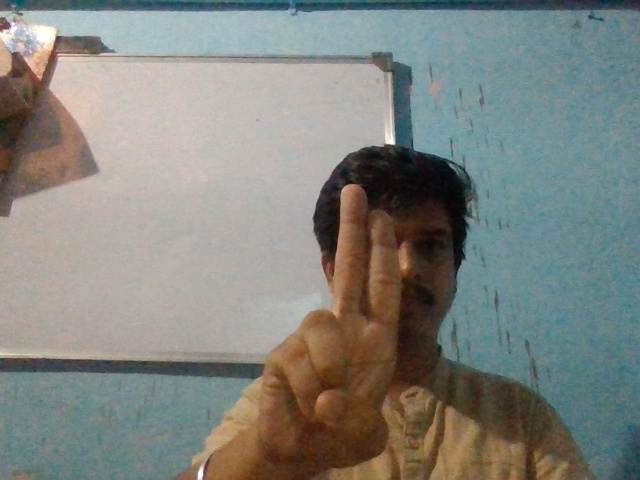Prana: (252, 180, 414, 462)
